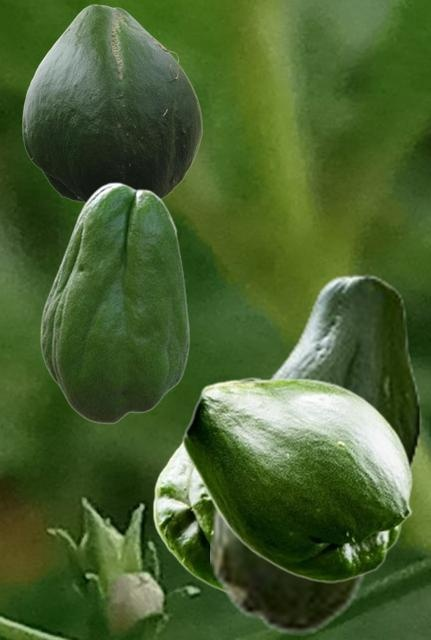sayote: (182, 377, 412, 582), (210, 362, 366, 635), (40, 182, 189, 423), (22, 4, 201, 202), (265, 274, 420, 498), (152, 439, 223, 594)
